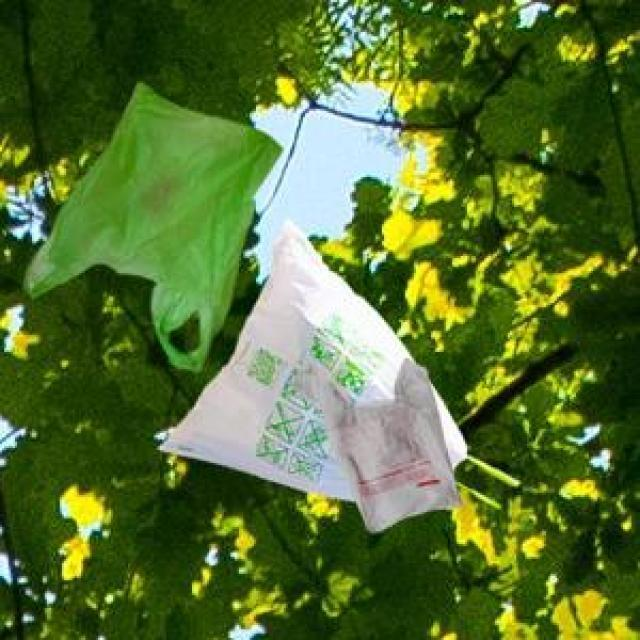waste: (159, 224, 466, 532), (25, 84, 279, 367)
